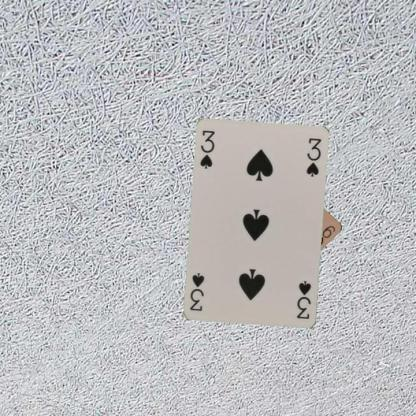3s: (294, 278, 313, 321), (198, 128, 216, 170)
